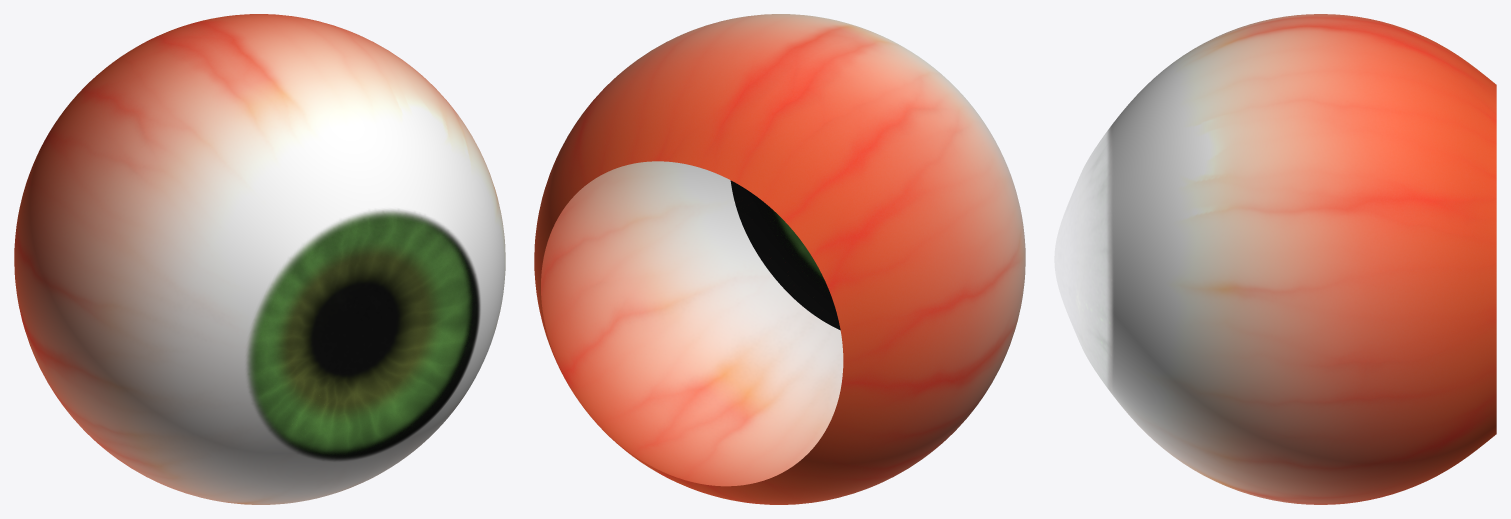
3 renders of one model, left to right at view 1: azimuth 30°, elevation 25°; view 2: azimuth 150°, elevation 25°; view 3: azimuth 270°, elevation 25°, orthographic.
Visible parts, largest first — view 1: Eye.R_0; view 2: Eye.R_0; view 3: Eye.R_0.
Part boxes in pixels (box(x1,y1,x2,y2)): Eye.R_0: box(14, 14, 505, 504); Eye.R_0: box(534, 14, 1025, 504); Eye.R_0: box(1079, 14, 1496, 504).
Bounding box in the file's own units: 1.97 × 1.97 × 1.78.
2 materials, 2 textured.
